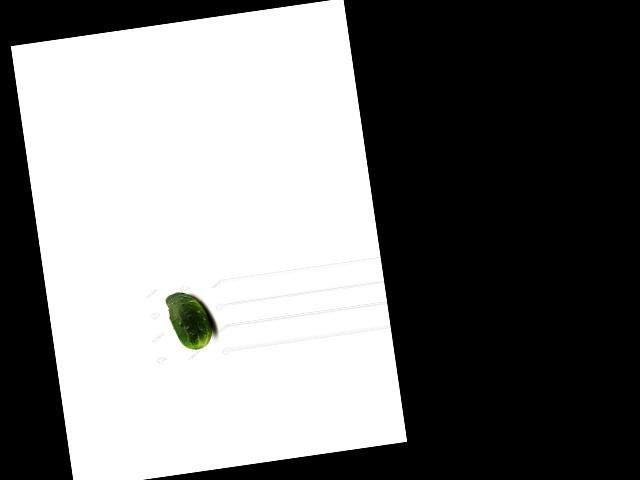cucumber: (164, 288, 214, 353)
